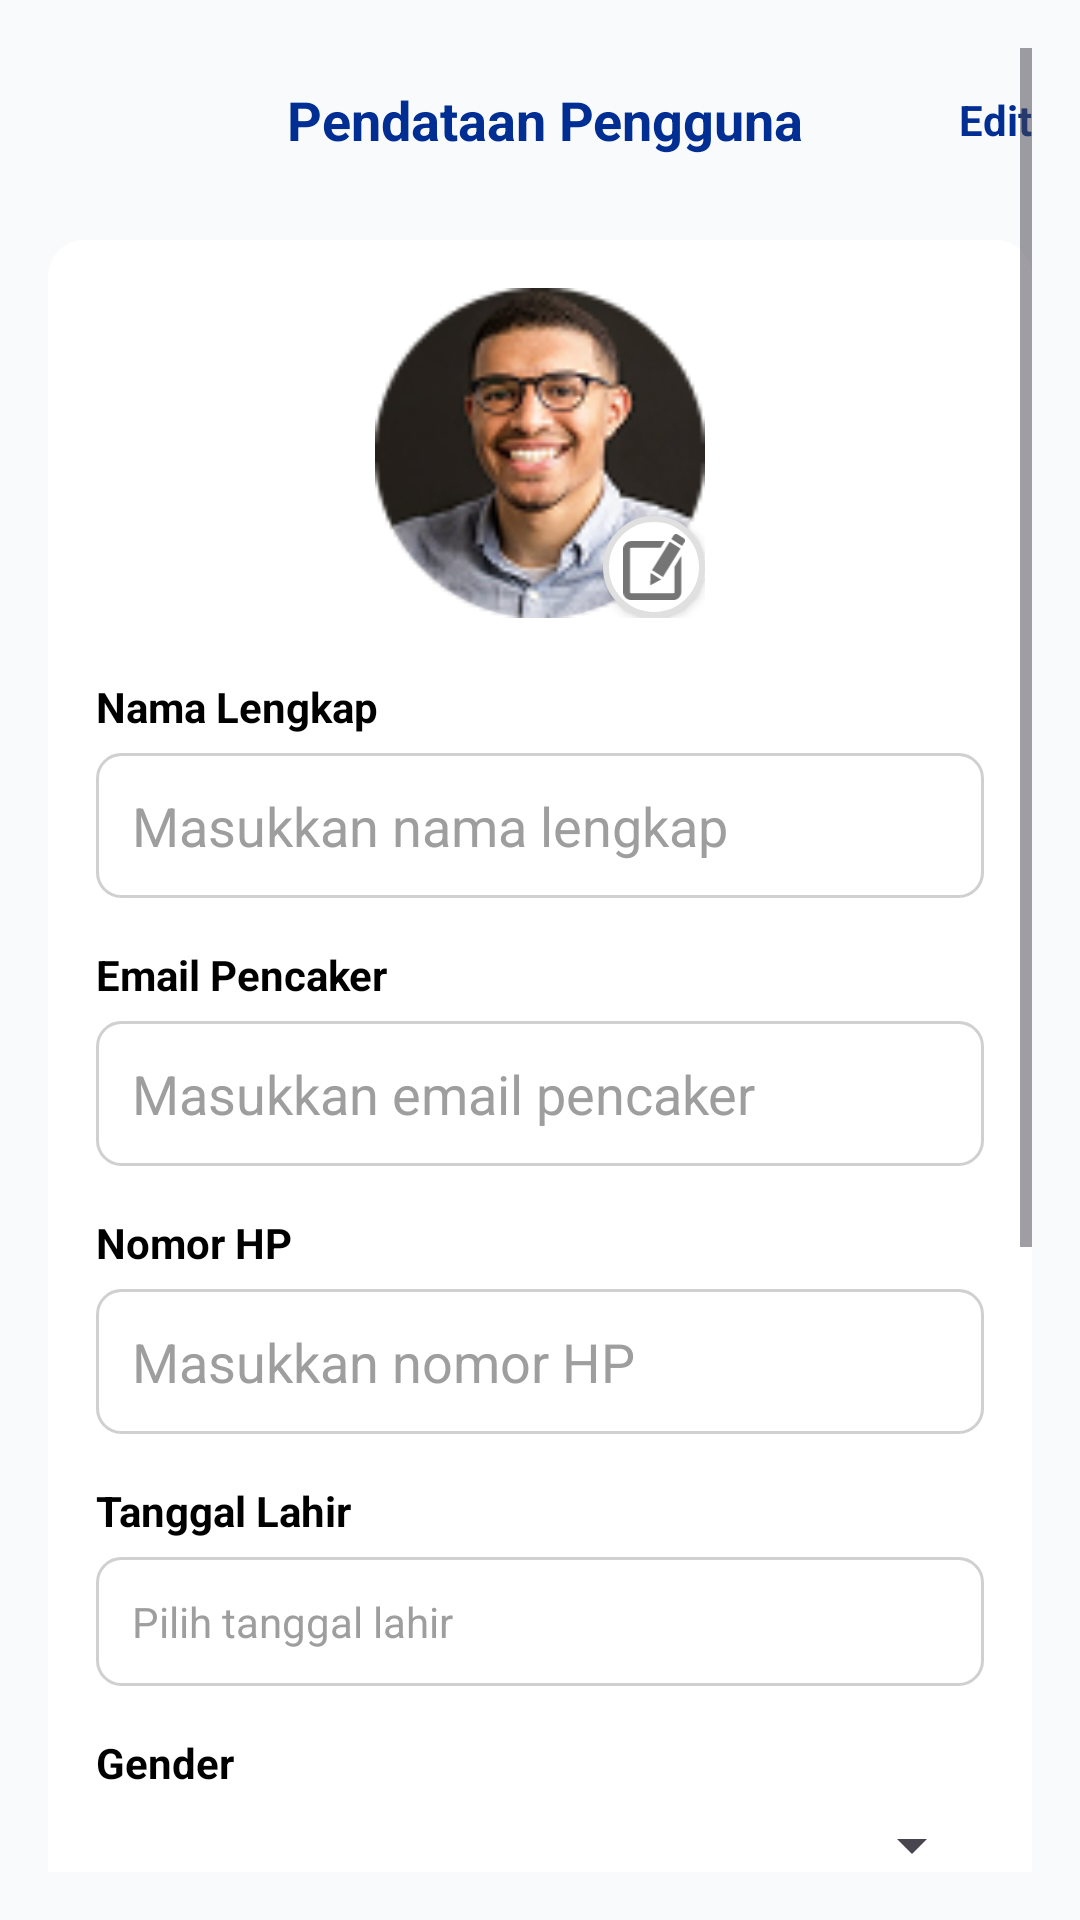

Icons on this 1080 × 1920 Android screen, each with the point to tap as (x,y):
edit: (654,567)
